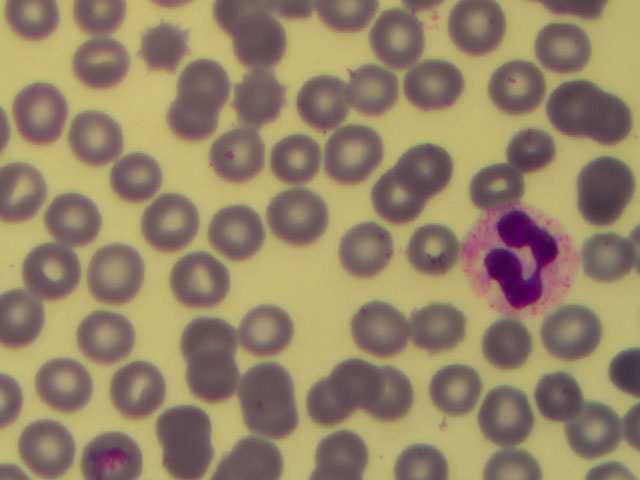RBC: (68, 41, 126, 91), (86, 430, 144, 480), (167, 430, 225, 480), (132, 21, 190, 70), (176, 61, 234, 110), (161, 95, 219, 144), (104, 148, 162, 197), (72, 110, 130, 159), (19, 82, 77, 131), (46, 192, 104, 241), (6, 164, 64, 213), (21, 247, 79, 296), (6, 290, 64, 339), (77, 306, 135, 355), (80, 241, 138, 290), (39, 357, 97, 406), (20, 430, 78, 479), (110, 363, 168, 412), (150, 398, 208, 447), (179, 356, 237, 405), (174, 318, 232, 367), (229, 303, 287, 352), (169, 256, 227, 305), (143, 195, 201, 244), (206, 203, 264, 252), (274, 186, 332, 235), (268, 139, 326, 188), (213, 132, 271, 181), (240, 68, 298, 117), (238, 17, 296, 66), (295, 75, 353, 124), (328, 125, 386, 174), (342, 63, 400, 112), (377, 9, 435, 58), (408, 56, 466, 105), (402, 141, 460, 190), (367, 172, 425, 221), (339, 227, 397, 276), (395, 221, 453, 270), (412, 298, 470, 347), (350, 304, 408, 353), (363, 372, 421, 421), (329, 354, 387, 403), (302, 388, 360, 437), (306, 427, 364, 476), (242, 389, 300, 438), (244, 346, 302, 395), (431, 367, 489, 416), (477, 320, 535, 369), (543, 306, 601, 355), (535, 375, 593, 424), (473, 389, 531, 438), (566, 406, 624, 455), (575, 235, 633, 284), (576, 168, 634, 217), (582, 92, 640, 141), (545, 80, 603, 129), (493, 61, 551, 110), (537, 29, 595, 78), (449, 2, 507, 51), (503, 122, 561, 171), (469, 157, 527, 206), (3, 1, 61, 49)
WBC: (463, 207, 576, 313)
